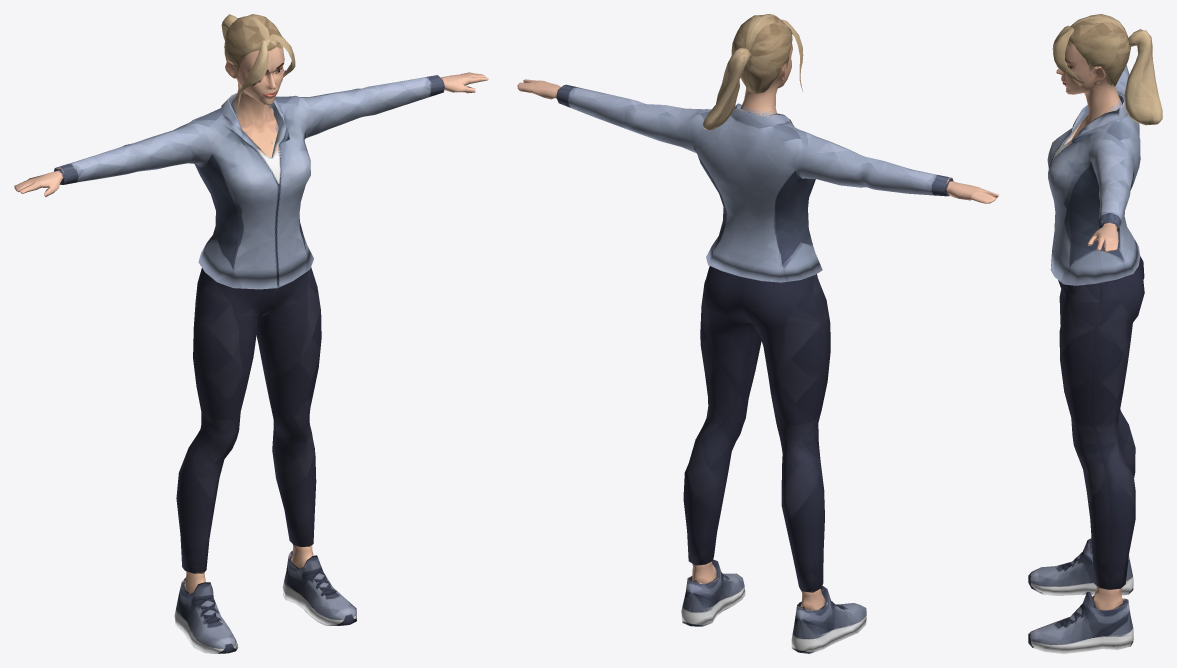
Rendered from civilian_woman_athletic.glb.
3 renders of one model, left to right at view 1: azimuth 30°, elevation 25°; view 2: azimuth 150°, elevation 25°; view 3: azimuth 270°, elevation 25°, orthographic.
Size of the model in its own units: 0.8203 by 1 by 0.2036.
1 material, 1 textured.
